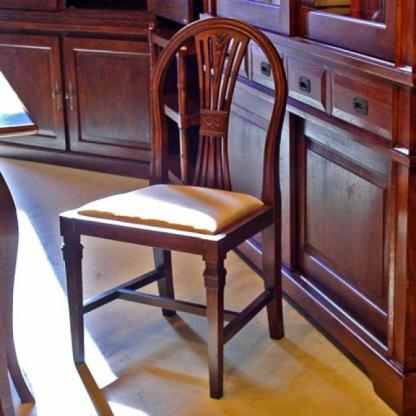Chair: (45, 10, 318, 416)
